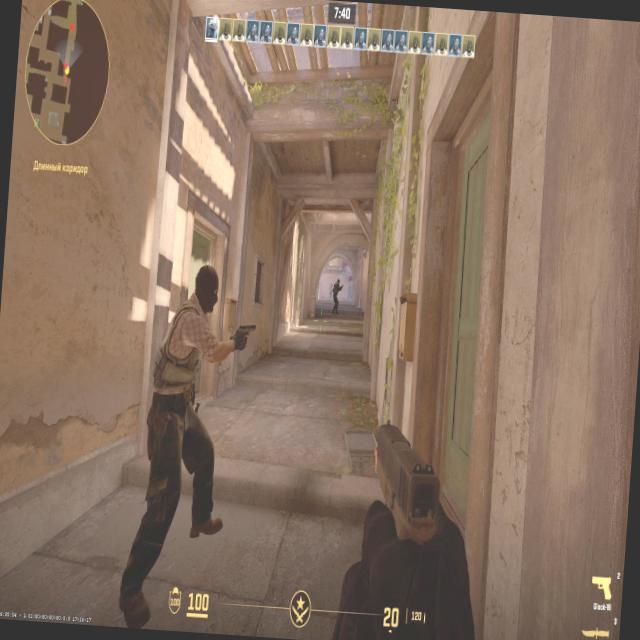CT: (332, 277, 340, 312)
CT_heat: (336, 278, 338, 286)
T: (156, 267, 217, 538)
T_heat: (198, 275, 208, 305)
